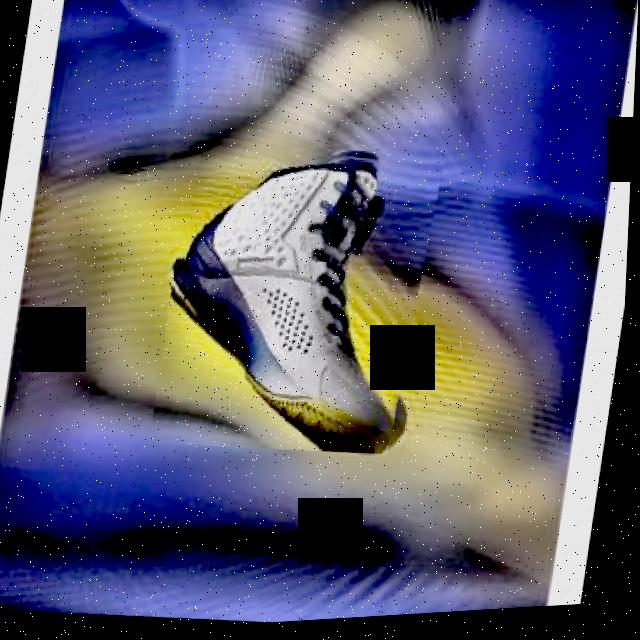shoe: (152, 131, 447, 472)
